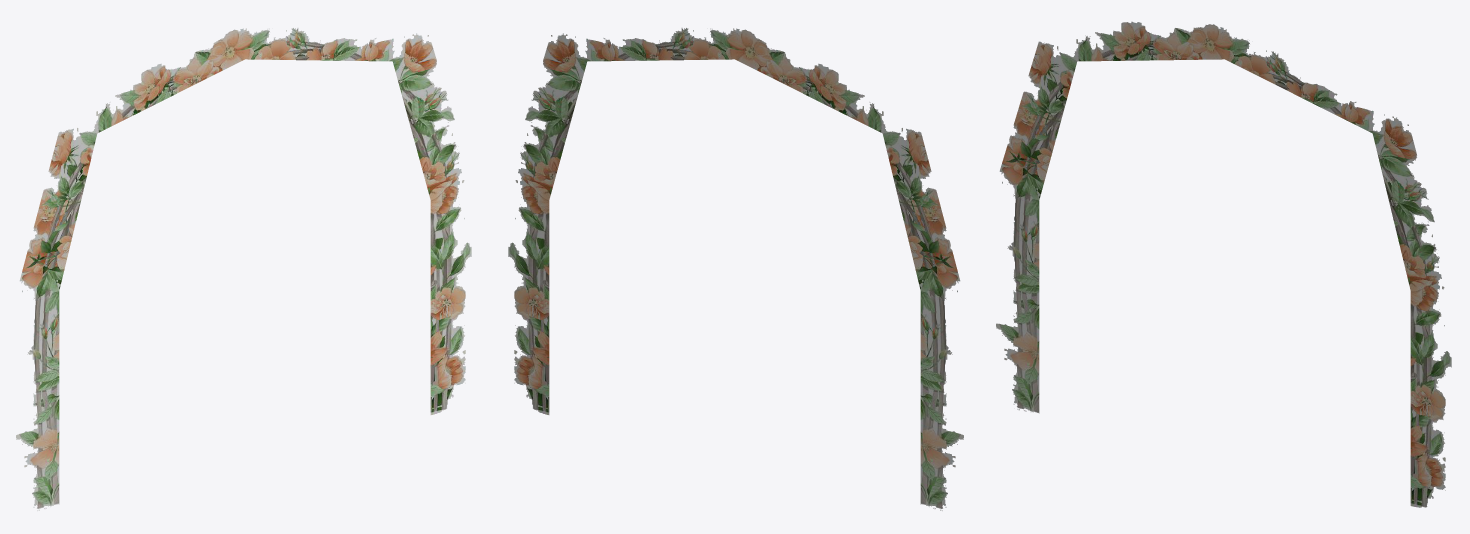
File: flowers.fbx
3 renders of one model, left to right at view 1: azimuth 30°, elevation 25°; view 2: azimuth 150°, elevation 25°; view 3: azimuth 330°, elevation 25°, orthographic.
Parts seen in each view (by area): view 1: polySurface2; view 2: polySurface2; view 3: polySurface2.
Boxes of the visible parts, x1,y1,x2,y2 form: polySurface2: (16, 28, 471, 510); polySurface2: (508, 28, 963, 510); polySurface2: (996, 21, 1451, 507).
Bounding box in the file's own units: 10.22 × 9.52 × 0.
Materials: 1 (1 with a texture image).
